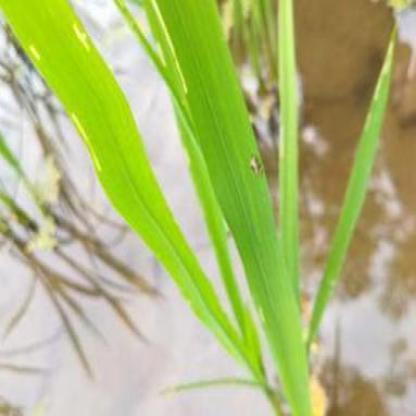rice-bug: (247, 152, 262, 178)
